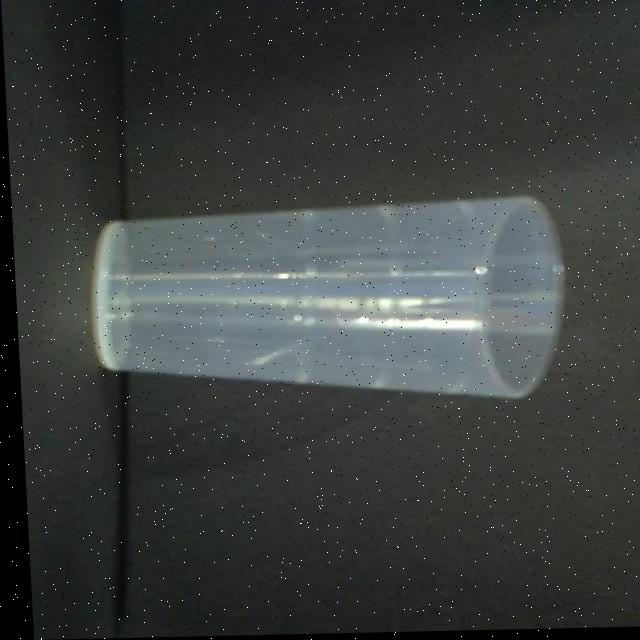cup: (89, 200, 560, 400)
